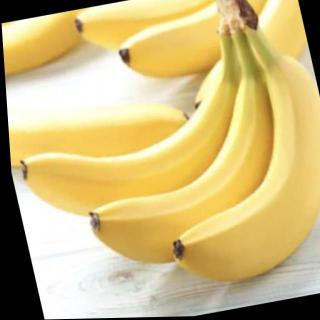banana: (59, 70, 313, 280), (3, 65, 279, 237), (130, 54, 320, 296)
